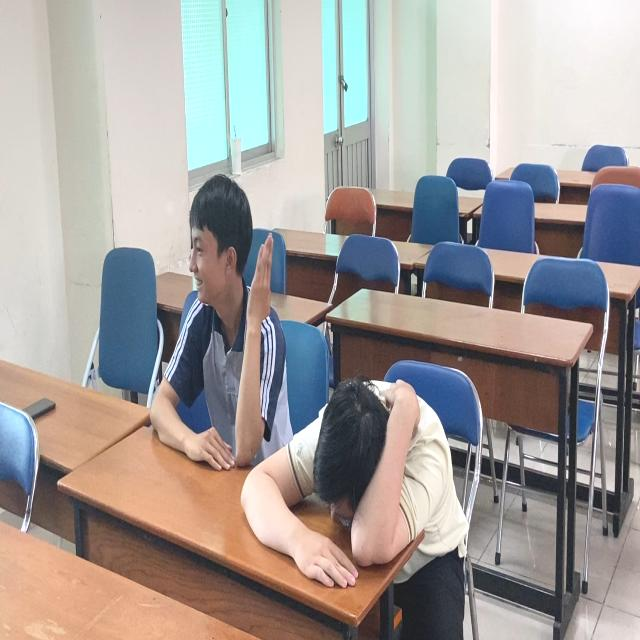raise_hand: (169, 157, 283, 473)
sleep: (238, 372, 458, 601)
